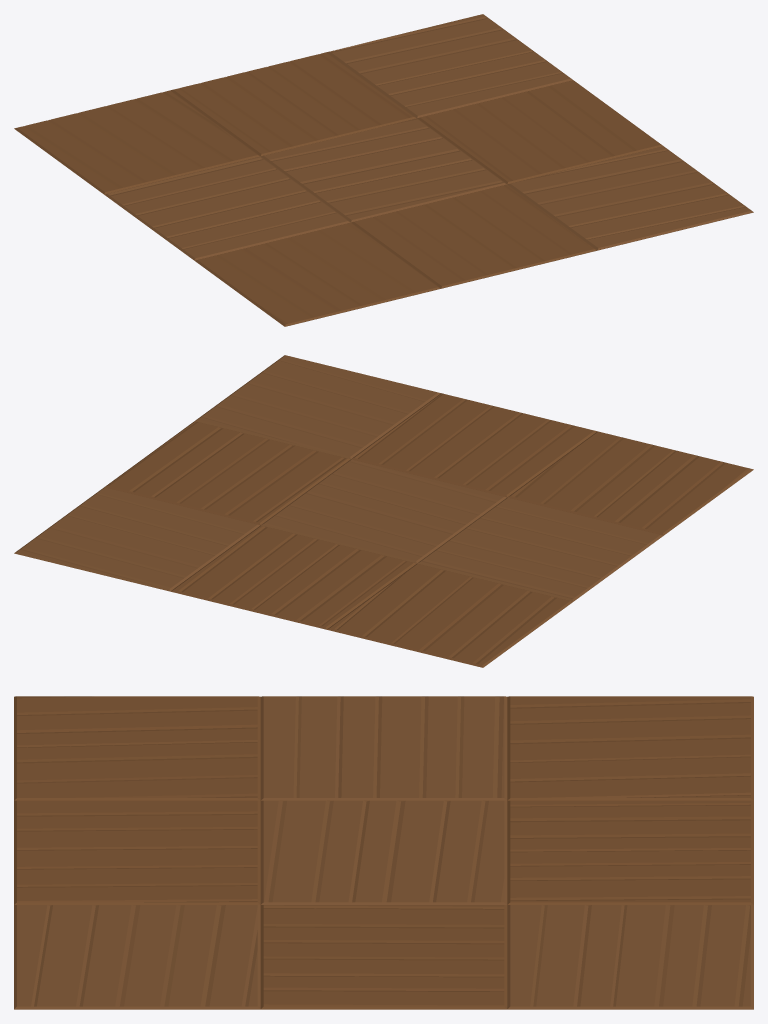
File: Wood_Floor_Module_03_01.glb
The picture shows the model from 3 angles, top to bottom: view 1: azimuth 30°, elevation 25°; view 2: azimuth 150°, elevation 25°; view 3: azimuth 270°, elevation 25°; orthographic projection. The views are drawn at different scales.
Parts seen in each view (by area): view 1: Wood_Floor_Module_03_01; view 2: Wood_Floor_Module_03_01; view 3: Wood_Floor_Module_03_01.
Boxes of the visible parts, left/top/right/bottom form: Wood_Floor_Module_03_01: left=14, top=14, right=753, bottom=326; Wood_Floor_Module_03_01: left=14, top=355, right=753, bottom=667; Wood_Floor_Module_03_01: left=14, top=696, right=753, bottom=1009.
Bounding box in the file's own units: 4.74 × 0.012 × 4.74.
